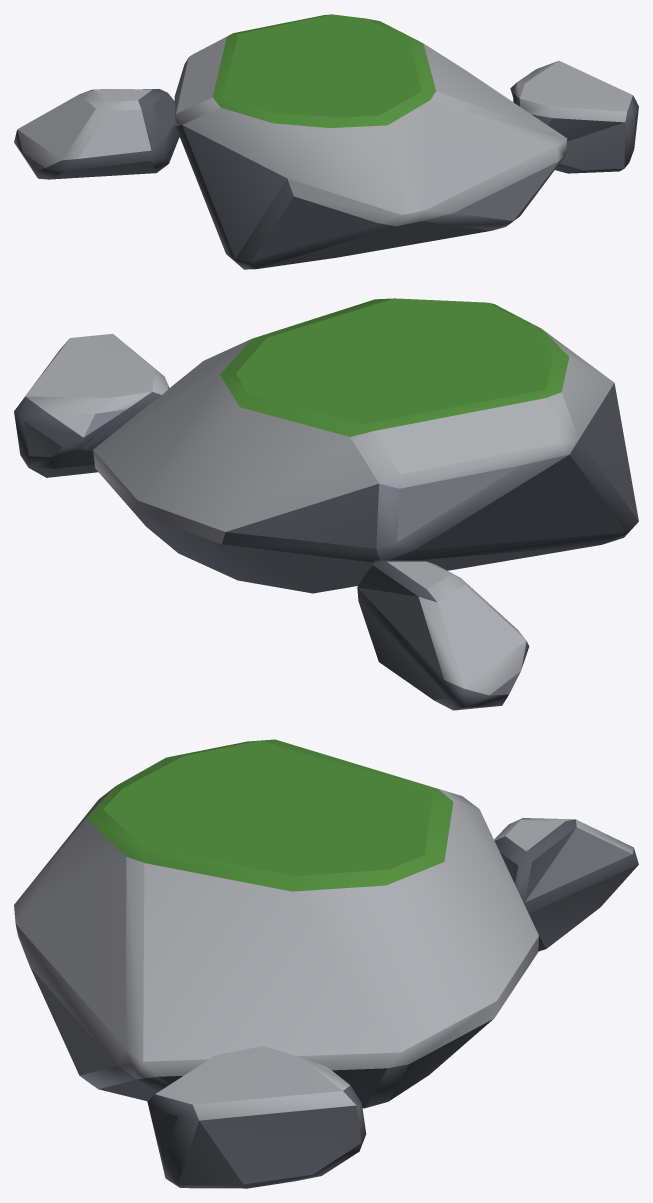
File: Rock_10.glb
3 views of the same model, one above another, from view 1: azimuth 30°, elevation 25°; view 2: azimuth 150°, elevation 25°; view 3: azimuth 270°, elevation 25° (orthographic). The views are drawn at different scales.
Parts seen in each view (by area): view 1: Rock_10; view 2: Rock_10; view 3: Rock_10.
Boxes of the visible parts, left/top/right/bottom form: Rock_10: left=14, top=14, right=638, bottom=269; Rock_10: left=14, top=298, right=638, bottom=710; Rock_10: left=14, top=739, right=638, bottom=1188.
Bounding box in the file's own units: 2.99 × 0.8596 × 2.47.
